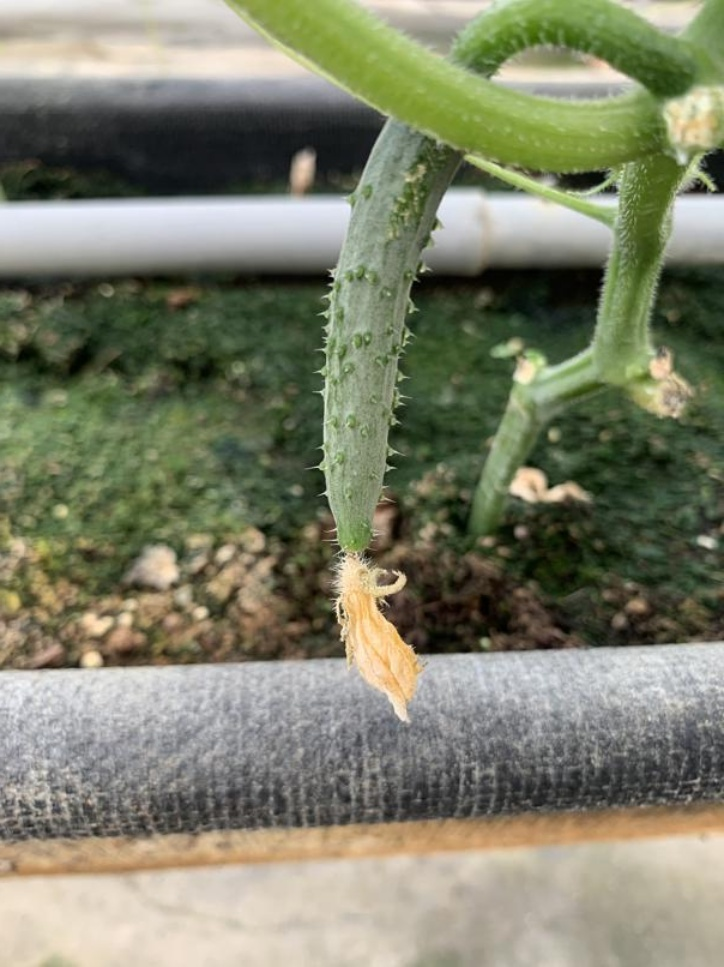bear: (269, 182, 456, 714)
